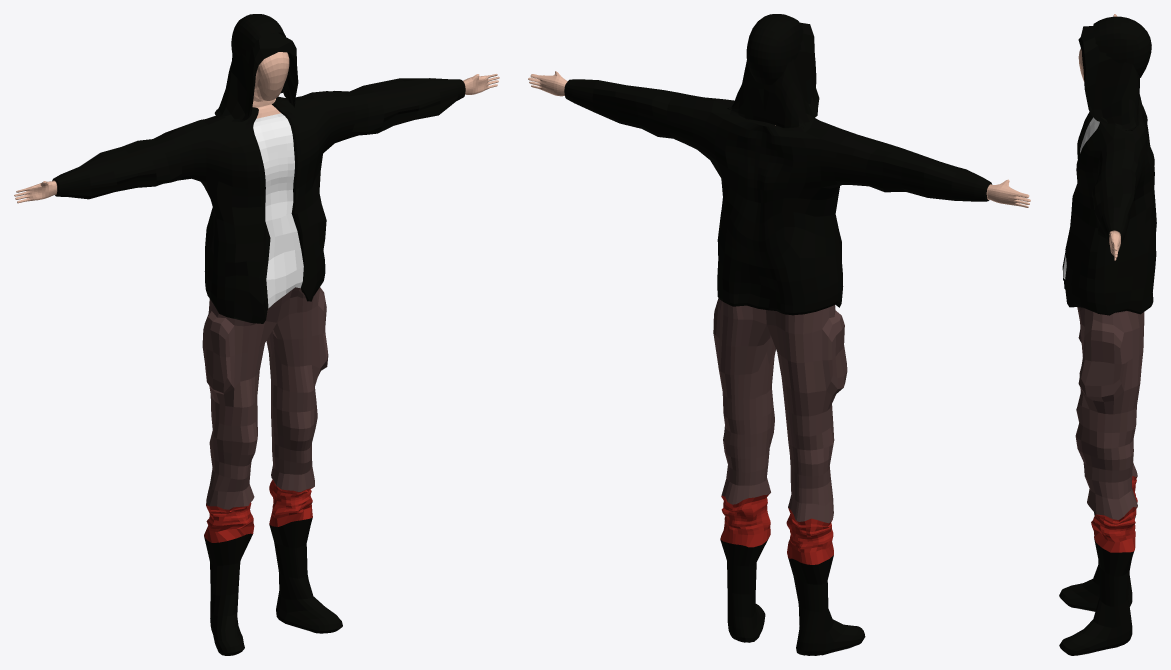
3 renders of one model, left to right at view 1: azimuth 30°, elevation 25°; view 2: azimuth 150°, elevation 25°; view 3: azimuth 270°, elevation 25°, orthographic. The views are drawn at different scales.
Visible parts, largest first — view 1: HZ, Cylinder.001; view 2: HZ, Cylinder.001; view 3: HZ, Cylinder.001.
Boxes of the visible parts, x1,y1,x2,y2 form: HZ: (14, 32, 499, 655); Cylinder.001: (231, 14, 285, 56); HZ: (528, 22, 1030, 655); Cylinder.001: (746, 14, 803, 84); HZ: (1059, 14, 1156, 655); Cylinder.001: (1093, 16, 1151, 77).
Bounding box in the file's own units: 602 × 721 × 105.
